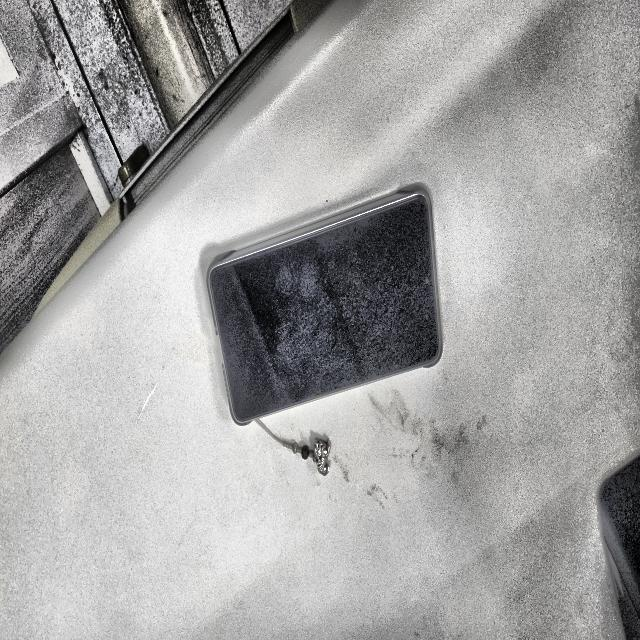PHONE: (207, 187, 442, 424)
